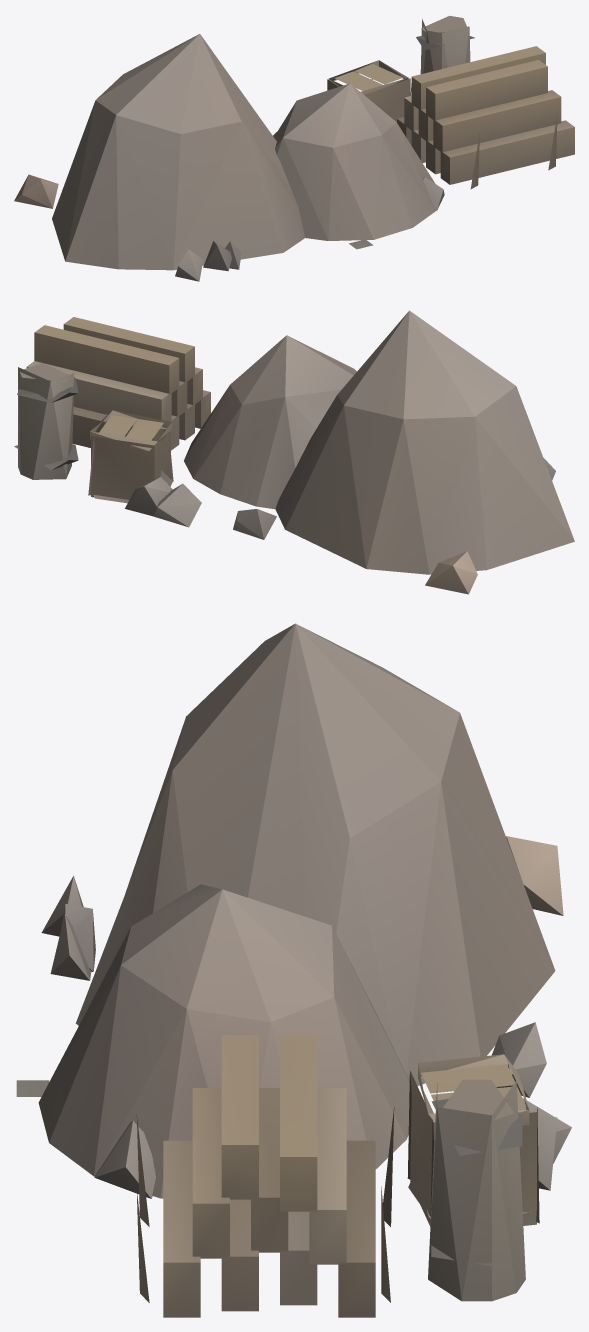
Rendered from spoil.lod2.glb.
3 views of the same model, one above another, from view 1: azimuth 30°, elevation 25°; view 2: azimuth 150°, elevation 25°; view 3: azimuth 270°, elevation 25° (orthographic). The views are drawn at different scales.
Bounding box in the file's own units: 5.2 × 1.9 × 2.57.
